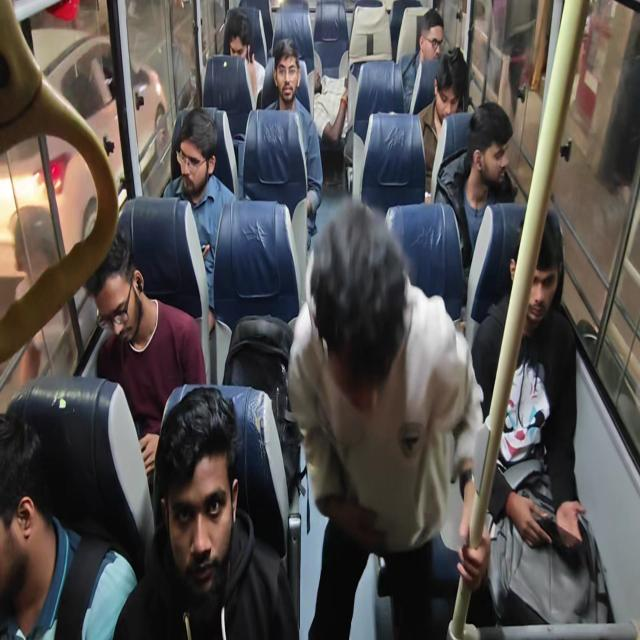person: (159, 390, 249, 581), (308, 211, 409, 371), (92, 250, 155, 351), (0, 467, 44, 568), (474, 96, 513, 176), (270, 50, 306, 109), (437, 56, 469, 115), (522, 221, 546, 296), (414, 13, 446, 57), (220, 14, 252, 52), (176, 134, 202, 177)
